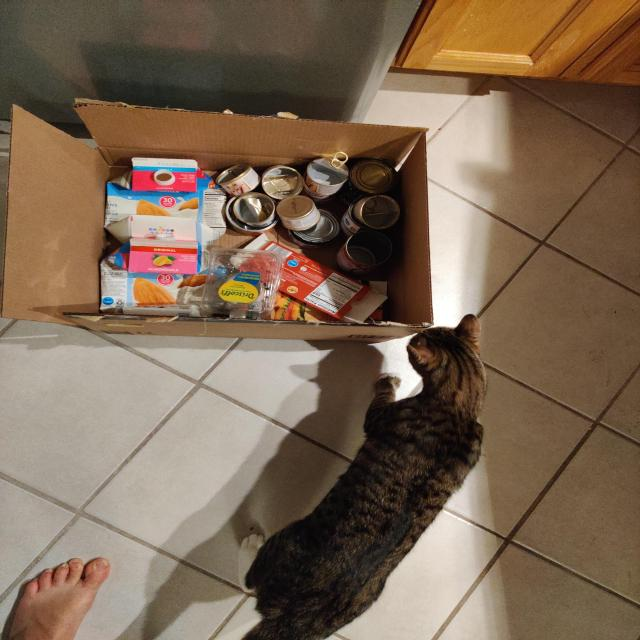litter: (235, 241, 383, 321), (107, 159, 224, 238), (104, 238, 223, 311), (267, 277, 395, 324), (209, 251, 275, 317), (341, 198, 396, 230), (228, 196, 275, 232), (224, 167, 291, 191), (341, 237, 384, 272), (307, 158, 344, 195), (279, 194, 321, 226), (351, 165, 391, 194), (261, 168, 296, 198), (292, 218, 329, 241)
